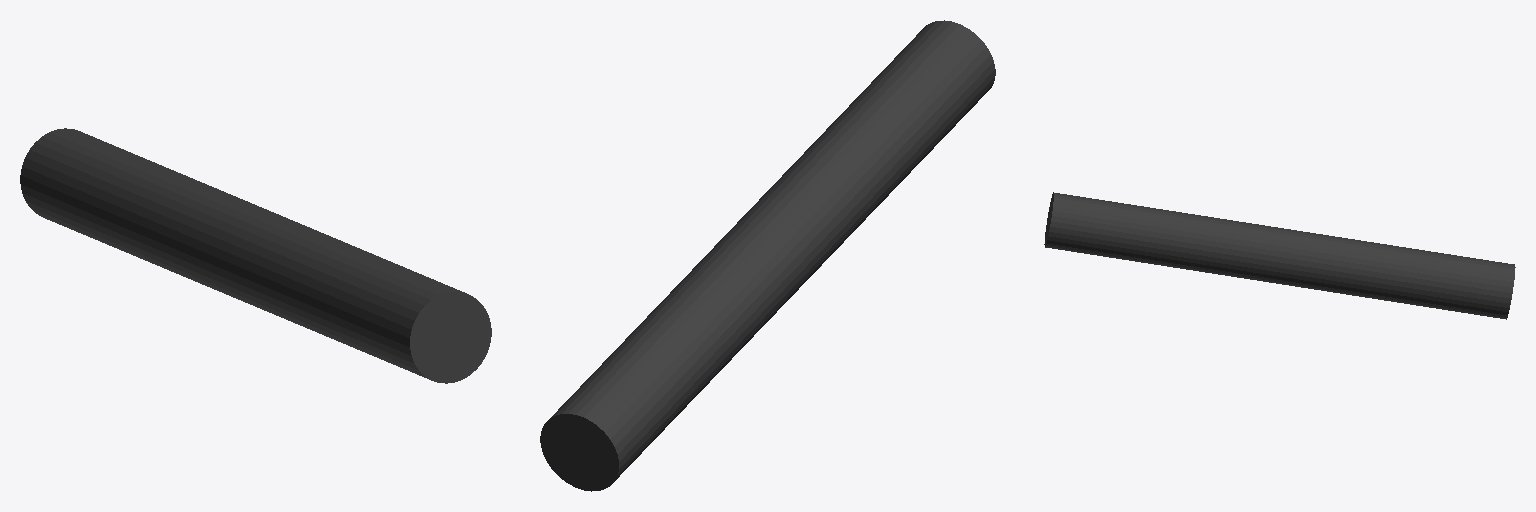
robot.urdf — universal_robot:
<?xml version="1.0" ?>
<!--FOR GRIPPER, THERE IS NO LINK INERTIA DEFINED HERE-->
<robot name="universal_robot" xmlns:xacro="http://ros.org/wiki/xacro">

  <link name="base_link">
    <visual>
      <geometry>
        <mesh filename="../meshes/ur5/visual/base.obj"/>
      </geometry>
      <material name="LightGrey">
        <color rgba="0.7 0.7 0.7 1.0"/>
      </material>
    </visual>
    <collision>
      <geometry>
        <mesh filename="../meshes/ur5/collision/base.stl"/>
      </geometry>
    </collision>
    <inertial>
      <mass value="4.0"/>
      <origin rpy="0 0 0" xyz="0.0 0.0 0.0"/>
      <inertia ixx="0.00443333156" ixy="0.0" ixz="0.0" iyy="0.00443333156" iyz="0.0" izz="0.0072"/>
    </inertial>
  </link>

  <joint name="shoulder_pan_joint" type="revolute">
    <parent link="base_link"/>
    <child link="shoulder_link"/>
    <origin rpy="0.0 0.0 0.0" xyz="0.0 0.0 0.089159"/>
    <axis xyz="0 0 1"/>
    <limit effort="150.0" lower="-3.14159265359" upper="3.14159265359" velocity="3.15"/>
    <dynamics damping="0.0" friction="0.0"/>
  </joint>
  <link name="shoulder_link">
    <visual>
      <geometry>
        <mesh filename="../meshes/ur5/visual/shoulder.obj"/>
      </geometry>
      <material name="DarkGrey">
        <color rgba="0.5 0.5 0.5 1.0"/>
      </material>
    </visual>
    <collision>
      <geometry>
        <mesh filename="../meshes/ur5/collision/shoulder.stl"/>
      </geometry>
    </collision>
    <inertial>
      <mass value="3.7"/>
      <origin rpy="0 0 0" xyz="0.0 0.0 0.0"/>
      <inertia ixx="0.010267495893" ixy="0.0" ixz="0.0" iyy="0.010267495893" iyz="0.0" izz="0.00666"/>
    </inertial>
  </link>
  <joint name="shoulder_lift_joint" type="revolute">
    <parent link="shoulder_link"/>
    <child link="upper_arm_link"/>
    <origin rpy="0.0 1.57079632679 0.0" xyz="0.0 0.13585 0.0"/>
    <axis xyz="0 1 0"/>
    <limit effort="150.0" lower="-3.14159265359" upper="3.14159265359" velocity="3.15"/>
    <dynamics damping="0.0" friction="0.0"/>
  </joint>
  <link name="upper_arm_link">
    <visual>
      <geometry>
        <mesh filename="../meshes/ur5/visual/upperarm.obj"/>
      </geometry>
      <material name="LightGrey">
        <color rgba="0.7 0.7 0.7 1.0"/>
      </material>
    </visual>
    <collision>
      <geometry>
        <mesh filename="../meshes/ur5/collision/upperarm.stl"/>
      </geometry>
    </collision>
    <inertial>
      <mass value="8.393"/>
      <origin rpy="0 0 0" xyz="0.0 0.0 0.28"/>
      <inertia ixx="0.22689067591" ixy="0.0" ixz="0.0" iyy="0.22689067591" iyz="0.0" izz="0.0151074"/>
    </inertial>
  </link>
  <joint name="elbow_joint" type="revolute">
    <parent link="upper_arm_link"/>
    <child link="forearm_link"/>
    <origin rpy="0.0 0.0 0.0" xyz="0.0 -0.1197 0.425"/>
    <axis xyz="0 1 0"/>
    <limit effort="150.0" lower="-3.14159265359" upper="3.14159265359" velocity="3.15"/>
    <dynamics damping="0.0" friction="0.0"/>
  </joint>
  <link name="forearm_link">
    <visual>
      <geometry>
        <mesh filename="../meshes/ur5/visual/forearm.obj"/>
      </geometry>
      <material name="LightGrey">
        <color rgba="0.7 0.7 0.7 1.0"/>
      </material>
    </visual>
    <collision>
      <geometry>
        <mesh filename="../meshes/ur5/collision/forearm.stl"/>
      </geometry>
    </collision>
    <inertial>
      <mass value="2.275"/>
      <origin rpy="0 0 0" xyz="0.0 0.0 0.25"/>
      <inertia ixx="0.049443313556" ixy="0.0" ixz="0.0" iyy="0.049443313556" iyz="0.0" izz="0.004095"/>
    </inertial>
  </link>
  <joint name="wrist_1_joint" type="revolute">
    <parent link="forearm_link"/>
    <child link="wrist_1_link"/>
    <origin rpy="0.0 1.57079632679 0.0" xyz="0.0 0.0 0.39225"/>
    <axis xyz="0 1 0"/>
    <limit effort="28.0" lower="-3.14159265359" upper="3.14159265359" velocity="3.2"/>
    <dynamics damping="0.0" friction="0.0"/>
  </joint>
  <link name="wrist_1_link">
    <visual>
      <geometry>
        <mesh filename="../meshes/ur5/visual/wrist1.obj"/>
      </geometry>
      <material name="DarkGrey">
        <color rgba="0.5 0.5 0.5 1.0"/>
      </material>
    </visual>
    <collision>
      <geometry>
        <mesh filename="../meshes/ur5/collision/wrist1.stl"/>
      </geometry>
    </collision>
    <inertial>
      <mass value="1.219"/>
      <origin rpy="0 0 0" xyz="0.0 0.0 0.0"/>
      <inertia ixx="0.111172755531" ixy="0.0" ixz="0.0" iyy="0.111172755531" iyz="0.0" izz="0.21942"/>
    </inertial>
  </link>
  <joint name="wrist_2_joint" type="revolute">
    <parent link="wrist_1_link"/>
    <child link="wrist_2_link"/>
    <origin rpy="0.0 0.0 0.0" xyz="0.0 0.093 0.0"/>
    <axis xyz="0 0 1"/>
    <limit effort="28.0" lower="-3.14159265359" upper="3.14159265359" velocity="3.2"/>
    <dynamics damping="0.0" friction="0.0"/>
  </joint>
  <link name="wrist_2_link">
    <visual>
      <geometry>
        <mesh filename="../meshes/ur5/visual/wrist2.obj"/>
      </geometry>
      <material name="DarkGrey">
        <color rgba="0.5 0.5 0.5 1.0"/>
      </material>
    </visual>
    <collision>
      <geometry>
        <mesh filename="../meshes/ur5/collision/wrist2.stl"/>
      </geometry>
    </collision>
    <inertial>
      <mass value="1.219"/>
      <origin rpy="0 0 0" xyz="0.0 0.0 0.0"/>
      <inertia ixx="0.111172755531" ixy="0.0" ixz="0.0" iyy="0.111172755531" iyz="0.0" izz="0.21942"/>
    </inertial>
  </link>
  <joint name="wrist_3_joint" type="revolute">
    <parent link="wrist_2_link"/>
    <child link="wrist_3_link"/>
    <origin rpy="0.0 0.0 0.0" xyz="0.0 0.0 0.09465"/>
    <axis xyz="0 1 0"/>
    <limit effort="28.0" lower="-3.14159265359" upper="3.14159265359" velocity="3.2"/>
    <dynamics damping="0.0" friction="0.0"/>
  </joint>
  <link name="wrist_3_link">
    <visual>
      <geometry>
        <mesh filename="../meshes/ur5/visual/wrist3.obj"/>
      </geometry>
      <material name="LightGrey">
        <color rgba="0.7 0.7 0.7 1.0"/>
      </material>
    </visual>
    <collision>
      <geometry>
        <mesh filename="../meshes/ur5/collision/wrist3.stl"/>
      </geometry>
    </collision>
    <inertial>
      <mass value="0.1879"/>
      <origin rpy="0 0 0" xyz="0.0 0.0 0.0"/>
      <inertia ixx="0.0171364731454" ixy="0.0" ixz="0.0" iyy="0.0171364731454" iyz="0.0" izz="0.033822"/>
    </inertial>
  </link>
  <joint name="ee_fixed_joint" type="fixed">
    <parent link="wrist_3_link"/>
    <child link="ee_link"/>
    <origin rpy="0.0 0.0 1.57079632679" xyz="0.0 0.0823 0.0"/>
  </joint>
  <link name="ee_link">
    <collision>
      <geometry>
        <box size="0.01 0.01 0.01"/>
      </geometry>
      <origin rpy="0 0 0" xyz="-0.01 0 0"/>
    </collision>
  </link>
<!--################################################
  ########          connect model                #####
  ####################################################-->
  <link name="world"/>
  <!-- connect arm to world -->
  <joint name="world_arm_joint" type="fixed">
    <parent link="world"/>
    <child link="base_link"/>
    <origin rpy="0.0 0.0 0" xyz="0 0 0.78"/>
  </joint>

  <link name="cube">
    <visual>
      <origin rpy="0 0 0" xyz="0 0 0"/>
      <geometry>
        <mesh filename="../meshes/ur5/visual/pan_tefal.obj"/>
      </geometry>
    </visual>
    <visual>  <!-- handle -->
      <geometry>
        <cylinder radius="0.011" length="0.185"/>
      </geometry>
      <origin rpy="0 1.4 0" xyz="0.22 0 0.07"/>
      <material name="stainless">
        <color rgba="0.3 0.3 .3 1"/>
      </material>
    </visual>

    <collision>  <!-- handle -->
      <geometry>
        <cylinder radius="0.011" length="0.185"/>
      </geometry>
      <origin rpy="0 1.4 0" xyz="0.22 0 0.07"/>
    </collision>
    <collision>  <!-- bottom -->
      <geometry>
        <cylinder radius="0.12" length="0.01"/>
      </geometry>
      <origin rpy="0 0 0" xyz="0 0 0.005"/>
    </collision>

    <collision>
      <geometry>
        <mesh filename="../meshes/ur5/visual/pan_tefal-collision01.obj"/>
      </geometry>
      <origin rpy="0 0 0" xyz="0 0 0"/>
    </collision>

    <collision>
      <geometry>
        <mesh filename="../meshes/ur5/visual/pan_tefal-collision02.obj"/>
      </geometry>
      <origin rpy="0 0 0" xyz="0 0 0"/>
    </collision>

    <collision>
      <geometry>
        <mesh filename="../meshes/ur5/visual/pan_tefal-collision03.obj"/>
      </geometry>
      <origin rpy="0 0 0" xyz="0 0 0"/>
    </collision>

    <collision>
      <geometry>
        <mesh filename="../meshes/ur5/visual/pan_tefal-collision04.obj"/>
      </geometry>
      <origin rpy="0 0 0" xyz="0 0 0"/>
    </collision>

    <collision>
      <geometry>
        <mesh filename="../meshes/ur5/visual/pan_tefal-collision05.obj"/>
      </geometry>
      <origin rpy="0 0 0" xyz="0 0 0"/>
    </collision>

    <collision>
      <geometry>
        <mesh filename="../meshes/ur5/visual/pan_tefal-collision06.obj"/>
      </geometry>
      <origin rpy="0 0 0" xyz="0 0 0"/>
    </collision>

    <inertial>
      <mass value="2."/>  <!-- mr^2 = 0.5*0.12^2 = 0.0072 for Z axis, lighter along other axis -->
      <inertia ixx="0.005" iyy="0.005" izz="0.0072"/>
    </inertial>
  </link>

  <joint name="pan_joint" type="fixed">
    <parent link="ee_link"/>
    <child link="cube"/>
    <origin rpy="3.14159265359 0.0 3.14159265359" xyz="0.15 0 0.07"/>
  </joint>



</robot>

--- Render facts (derived) ---
The picture shows the robot from 3 angles, left to right: view 1: azimuth 30°, elevation 25°; view 2: azimuth 150°, elevation 25°; view 3: azimuth 270°, elevation 25°; orthographic projection.
Robot: universal_robot — 10 links, 9 joints (6 revolute, 3 fixed); root link world; default pose: every joint at zero.
Visible links, largest first — view 1: cube; view 2: cube; view 3: cube.
Boxes of the visible links, <box> form: cube: <box>20,128,491,383</box>; cube: <box>540,20,995,491</box>; cube: <box>1044,192,1515,319</box>.
Size in the robot's own frame: 0.022 by 0.186 by 0.0531 metres.
Meshes: 8 distinct files referenced, 0 mesh visuals loaded (none loaded); not drawn: 8 (reference not matched to a file when rendering).